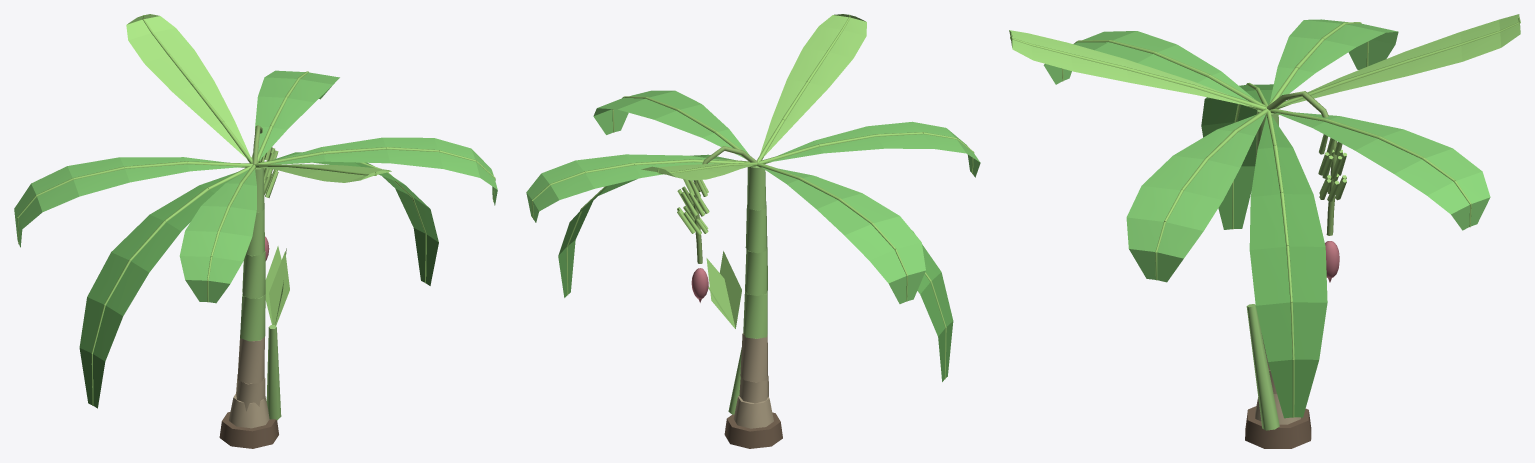
File: south_indian_banana_plant.glb
3 views of the same model, side by side, from view 1: azimuth 30°, elevation 25°; view 2: azimuth 150°, elevation 25°; view 3: azimuth 270°, elevation 25° (orthographic). The views are drawn at different scales.
Visible parts, largest first — view 1: Banana_Leaf_8, Banana_Leaf_5, Banana_Leaf_1, Banana_Pseudostem_Shaft, Banana_Leaf_6, Banana_Leaf_4, Banana_Leaf_3, Banana_Leaf_7, Base_Sucker_Pup_Shoot, Banana_Leaf_2, Banana_Subgrade_Root_Collar; view 2: Banana_Leaf_6, Banana_Pseudostem_Shaft, Banana_Leaf_2, Banana_Leaf_3, Banana_Leaf_4, Banana_Leaf_5, Banana_Leaf_8, Base_Sucker_Pup_Shoot, Banana_Leaf_7, Banana_Subgrade_Root_Collar, Banana_Leaf_1, Banana_Fruit_Bunch_Assembly (+2 smaller); view 3: Banana_Leaf_7, Banana_Leaf_4, Banana_Leaf_3, Banana_Leaf_6, Banana_Leaf_1, Banana_Leaf_2, Banana_Leaf_5, Banana_Leaf_8, Base_Sucker_Pup_Shoot, Banana_Subgrade_Root_Collar, Banana_Fruit_Bunch_Assembly, Banana_Pseudostem_Shaft (+2 smaller).
Boxes of the visible parts, x1,y1,x2,y2 form: Banana_Leaf_8: (79,165,251,408); Banana_Leaf_5: (179,164,256,303); Banana_Leaf_1: (126,14,252,163); Banana_Pseudostem_Shaft: (229,168,269,428); Banana_Leaf_6: (14,157,252,247); Banana_Leaf_4: (257,137,497,205); Banana_Leaf_3: (255,70,339,162); Banana_Leaf_7: (271,152,438,285); Base_Sucker_Pup_Shoot: (265,246,289,420); Banana_Leaf_2: (254,163,391,182); Banana_Subgrade_Root_Collar: (219,412,278,448); Banana_Leaf_6: (757,162,925,303); Banana_Pseudostem_Shaft: (733,164,773,428); Banana_Leaf_2: (756,14,866,162); Banana_Leaf_3: (526,154,749,222); Banana_Leaf_4: (593,90,749,158); Banana_Leaf_5: (758,121,980,177); Banana_Leaf_8: (764,164,953,381); Base_Sucker_Pup_Shoot: (706,251,741,414); Banana_Leaf_7: (558,154,748,297); Banana_Subgrade_Root_Collar: (724,412,782,448); Banana_Leaf_1: (641,162,757,180); Banana_Fruit_Bunch_Assembly: (693,146,757,263); Banana_Leaf_7: (1249,110,1327,418); Banana_Leaf_4: (1126,108,1268,282); Banana_Leaf_3: (1270,108,1490,230); Banana_Leaf_6: (1267,19,1398,106); Banana_Leaf_1: (1276,14,1520,109); Banana_Leaf_2: (1009,30,1266,110); Banana_Leaf_5: (1043,31,1266,106); Banana_Leaf_8: (1201,82,1273,229); Base_Sucker_Pup_Shoot: (1246,304,1279,430); Banana_Subgrade_Root_Collar: (1245,406,1311,448); Banana_Fruit_Bunch_Assembly: (1266,91,1336,235); Banana_Pseudostem_Shaft: (1255,110,1300,424).
Size of the model in its own units: 4.03 by 3.33 by 3.72.
